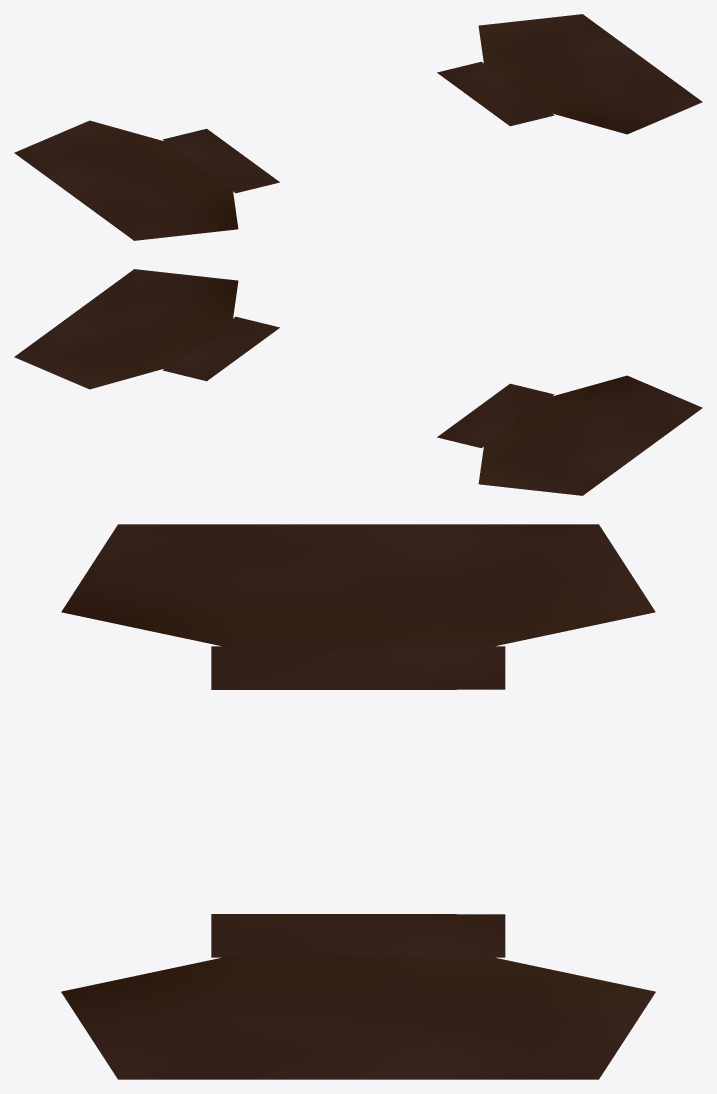
File: pir_m_bld_wal_spanish_archA_footprint.fbx
3 renders of one model, top to bottom at view 1: azimuth 30°, elevation 25°; view 2: azimuth 150°, elevation 25°; view 3: azimuth 270°, elevation 25°, orthographic. The views are drawn at different scales.
Parts seen in each view (by area): view 1: footprint; view 2: footprint; view 3: footprint.
Part boxes in pixels (x1,y1,x2,y2): footprint: (14,14,702,240); footprint: (14,269,702,495); footprint: (61,524,655,1079).
Size of the model in its own units: 2300 by 0.00017 by 1042.
1 material, 1 textured.
